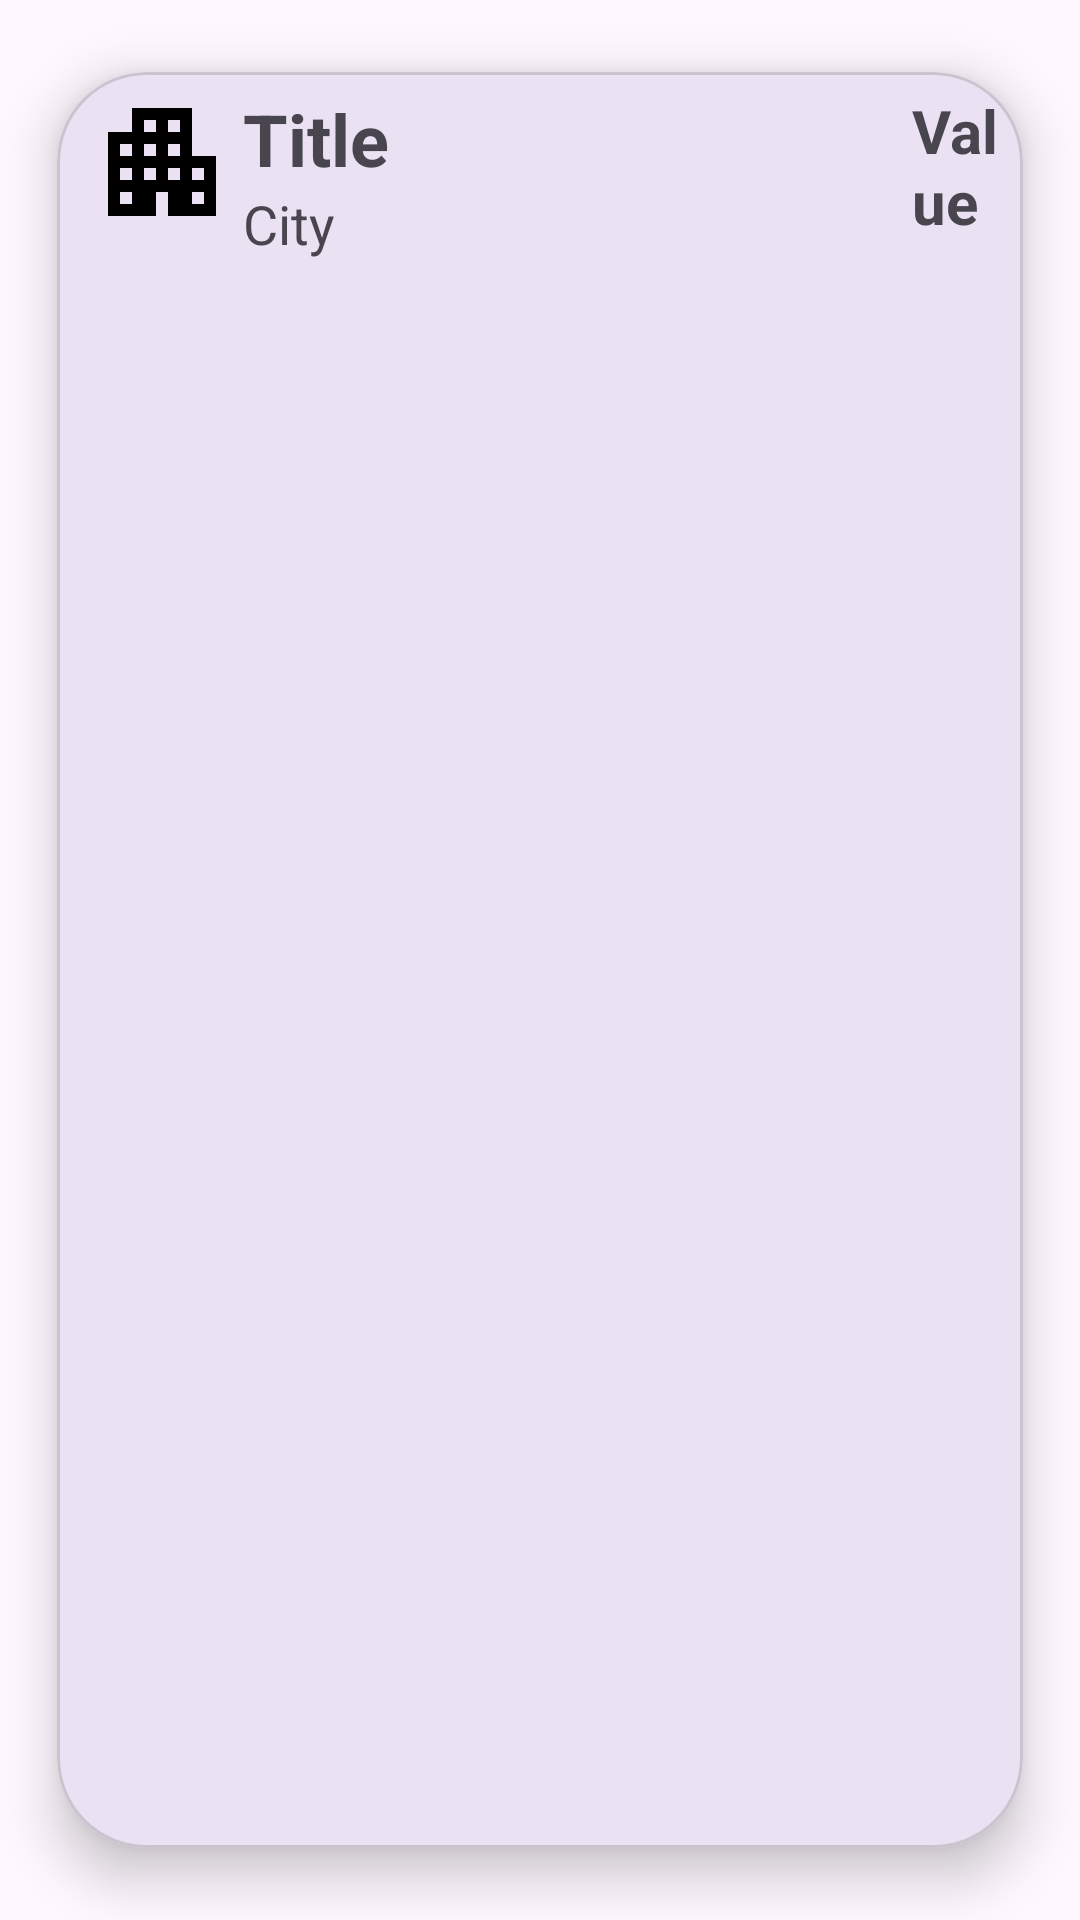

Icons on this 1080*1920 Android screen, each with its box as (x1, y1, x2, y2):
apartment: (108, 108, 216, 216)
